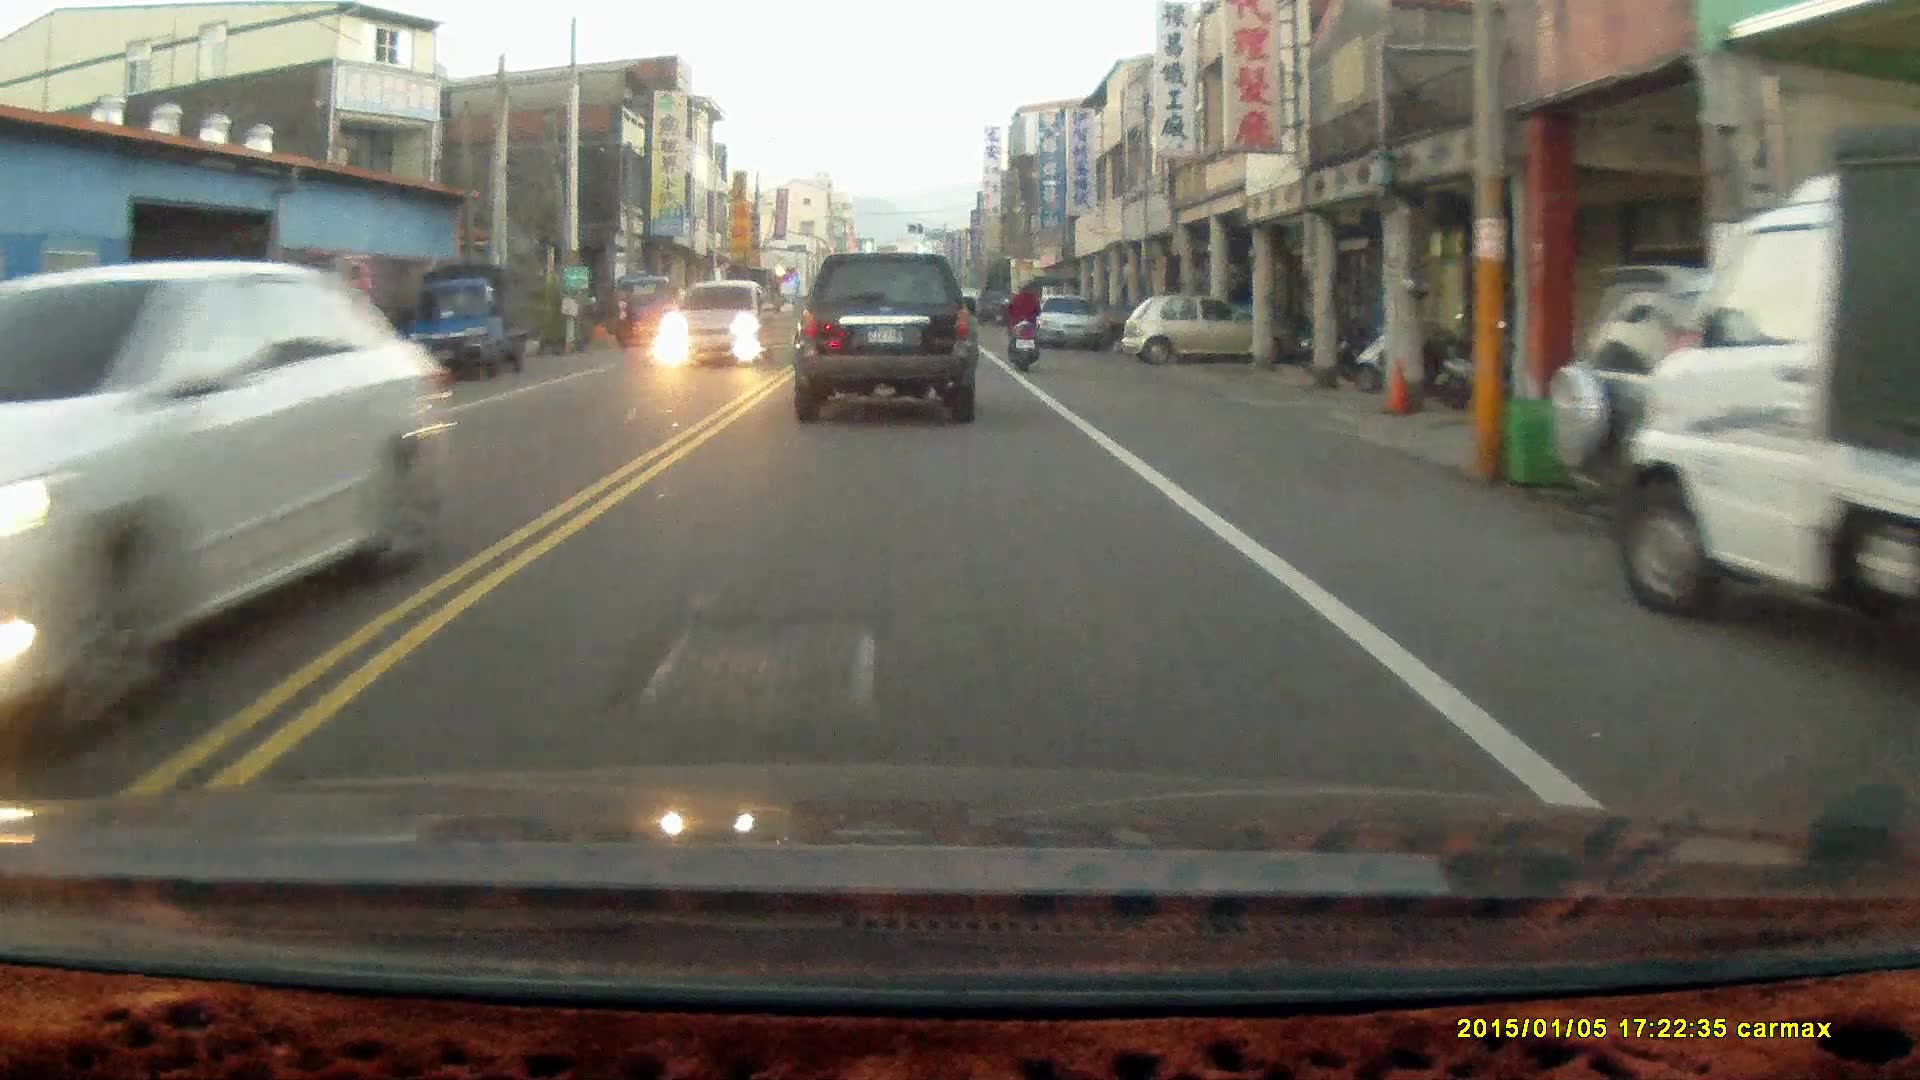pedestrian: (613, 287, 633, 349)
rider: (1005, 278, 1042, 373)
vehicle: (1, 262, 447, 721), (1614, 123, 1920, 682), (1546, 268, 1919, 544), (787, 256, 980, 429), (403, 268, 545, 385), (1122, 298, 1273, 371), (663, 281, 781, 370), (1033, 295, 1108, 353)
